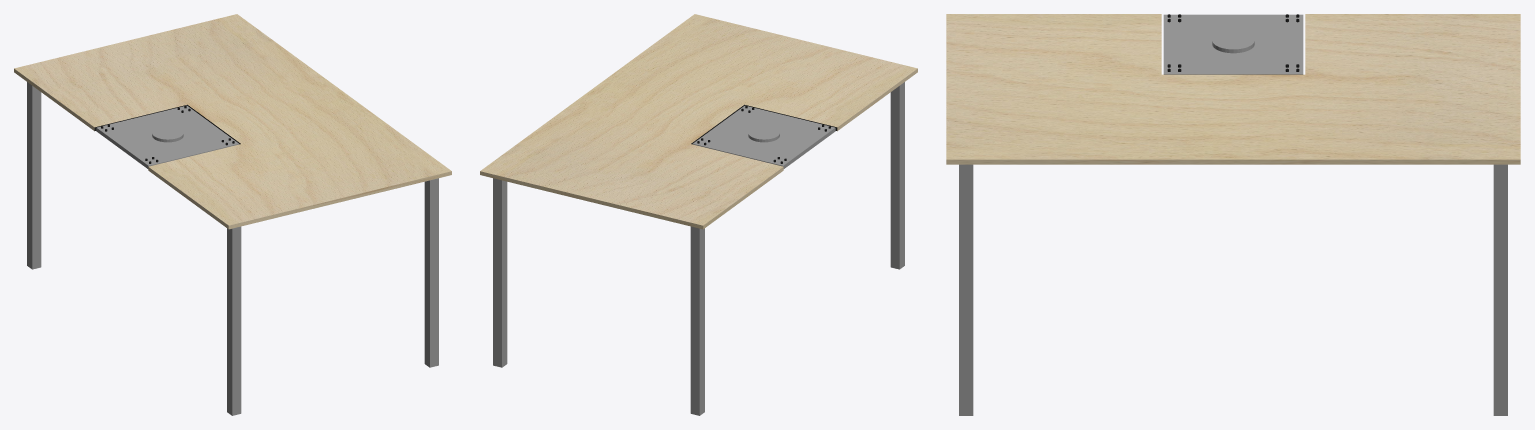
The model's file is table.dae.
3 views of the same model, side by side, from view 1: azimuth 30°, elevation 25°; view 2: azimuth 150°, elevation 25°; view 3: azimuth 270°, elevation 25° (orthographic). The views are drawn at different scales.
Visible parts, largest first — view 1: table; view 2: table; view 3: table.
Part boxes in pixels (bbox=[...]): table: bbox=[14, 14, 451, 415]; table: bbox=[480, 14, 917, 415]; table: bbox=[946, 14, 1520, 415].
Bounding box in the file's own units: 1.22 × 2.03 × 1.04.
Materials: 3 (1 with a texture image).
